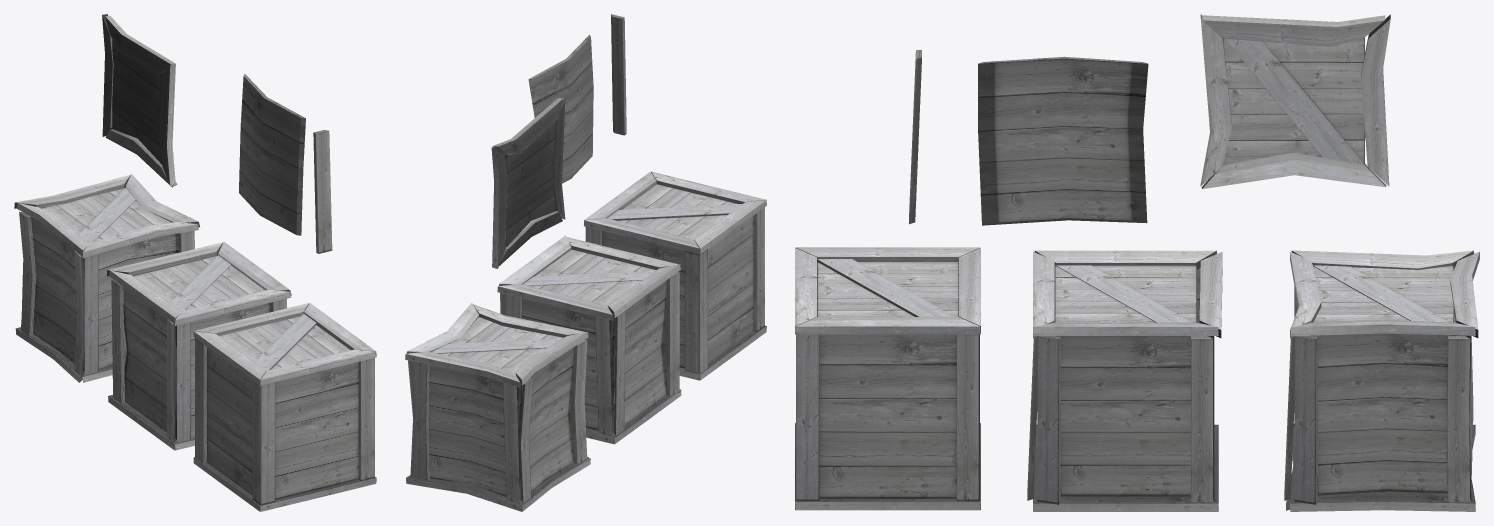
Rendered from Destructible box Teile.fbx.
3 renders of one model, left to right at view 1: azimuth 30°, elevation 25°; view 2: azimuth 150°, elevation 25°; view 3: azimuth 270°, elevation 25°, orthographic. The views are drawn at different scales.
Parts seen in each view (by area): view 1: Box_1, Box_3, Box_2, Tile_3, Tile_1, Tile_2; view 2: Box_3, Box_2, Box_1, Tile_3, Tile_1, Tile_2; view 3: Box_2, Box_1, Box_3, Tile_3, Tile_1, Tile_2.
Boxes of the visible parts, left/top/right/bottom form: Box_1: left=193, top=303, right=376, bottom=511; Box_3: left=14, top=174, right=199, bottom=382; Box_2: left=106, top=241, right=291, bottom=450; Tile_3: left=102, top=14, right=177, bottom=187; Tile_1: left=239, top=74, right=305, bottom=235; Tile_2: left=313, top=130, right=332, bottom=253; Box_3: left=405, top=303, right=590, bottom=511; Box_2: left=497, top=235, right=681, bottom=444; Box_1: left=584, top=171, right=766, bottom=380; Tile_3: left=491, top=97, right=565, bottom=268; Tile_1: left=528, top=34, right=593, bottom=183; Tile_2: left=611, top=14, right=626, bottom=135; Box_2: left=1027, top=250, right=1222, bottom=511; Box_1: left=795, top=247, right=980, bottom=510; Box_3: left=1284, top=250, right=1479, bottom=511; Tile_3: left=1200, top=14, right=1390, bottom=188; Tile_1: left=978, top=56, right=1148, bottom=225; Tile_2: left=909, top=50, right=921, bottom=224.
Bounding box in the file's own units: 2.26 × 7.99 × 5.91.
